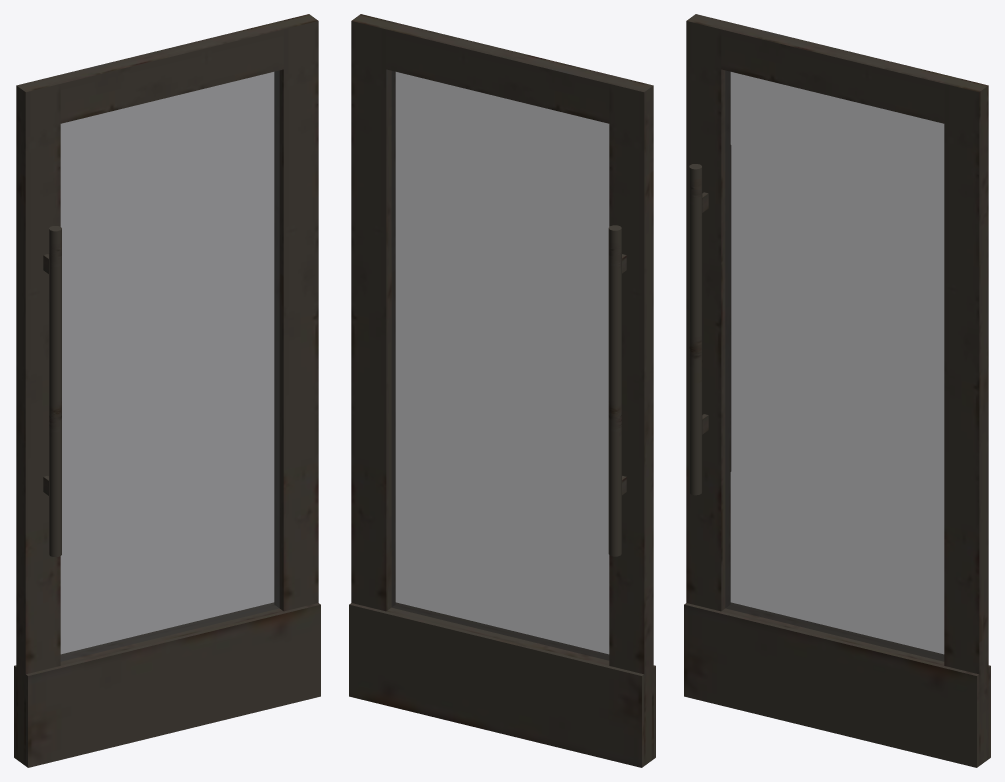
Rendered from Door_2.glb.
3 renders of one model, left to right at view 1: azimuth 30°, elevation 25°; view 2: azimuth 150°, elevation 25°; view 3: azimuth 330°, elevation 25°, orthographic.
Parts seen in each view (by area): view 1: Door_2; view 2: Door_2; view 3: Door_2.
Part boxes in pixels (left/top/right/bottom): Door_2: left=14, top=14, right=320, bottom=767; Door_2: left=349, top=14, right=655, bottom=767; Door_2: left=684, top=14, right=990, bottom=767.
Bounding box in the file's own units: 1 × 2.2 × 0.2103.
2 materials, 1 textured.
